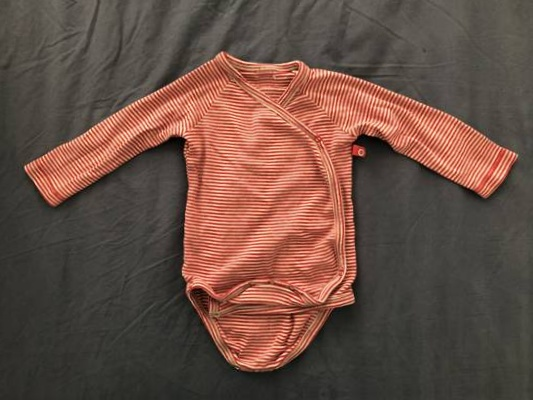Body: (6, 28, 533, 372)
